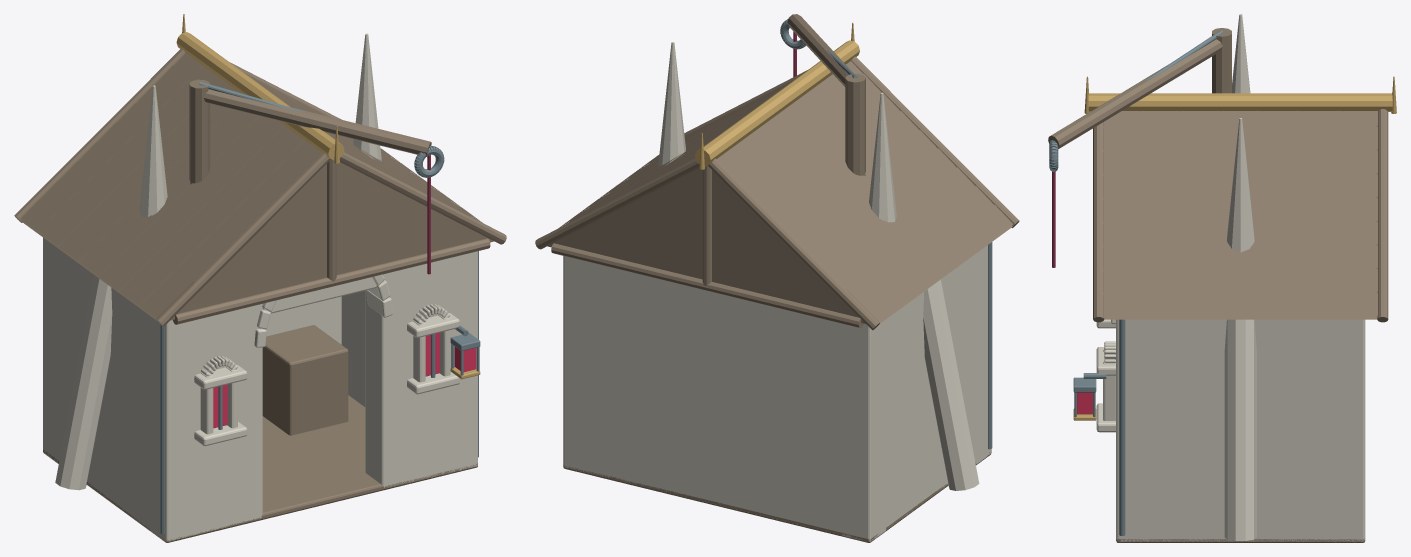
The model's file is a6_service_4.glb.
The picture shows the model from 3 angles, left to right: view 1: azimuth 30°, elevation 25°; view 2: azimuth 150°, elevation 25°; view 3: azimuth 270°, elevation 25°; orthographic projection.
Parts seen in each view (by area): view 1: Roof.028, Front.028, Side.028, Body.064; view 2: Roof.028, Body.064, Side.028, Front.028; view 3: Roof.028, Side.028, Body.064, Front.028.
Part boxes in pixels (<box>): Roof.028: <box>14,14,506,326</box>; Front.028: <box>150,251,480,541</box>; Side.028: <box>43,240,478,541</box>; Body.064: <box>43,237,477,542</box>; Roof.028: <box>535,14,1019,330</box>; Body.064: <box>563,256,991,542</box>; Side.028: <box>564,242,992,541</box>; Front.028: <box>976,245,991,464</box>; Roof.028: <box>1048,14,1396,322</box>; Side.028: <box>1116,319,1362,541</box>; Body.064: <box>1116,319,1365,542</box>; Front.028: <box>1073,319,1148,542</box>.
Size of the model in its own units: 3.76 by 3.57 by 2.8.
